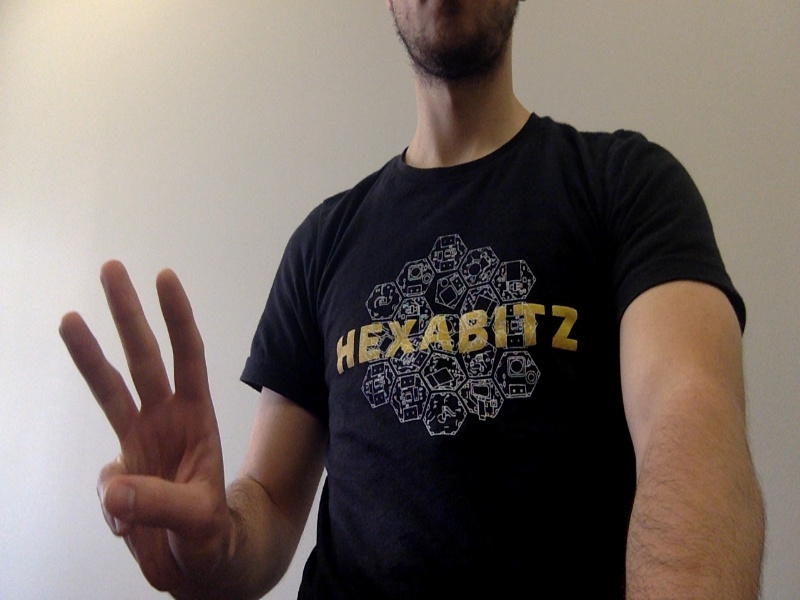3-hand: (61, 259, 230, 586)
